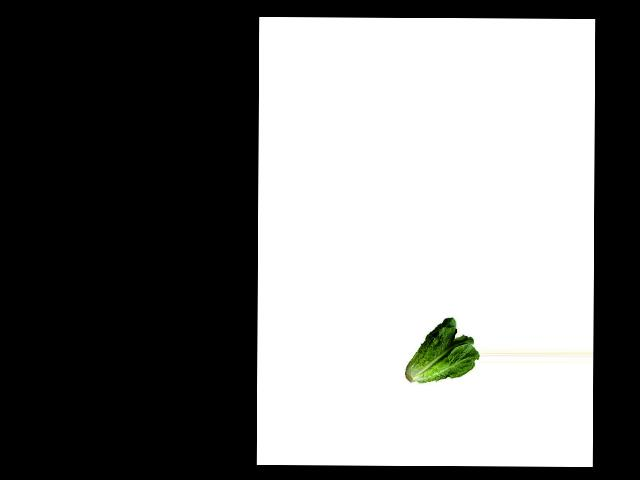lettuce: (405, 314, 480, 385)
